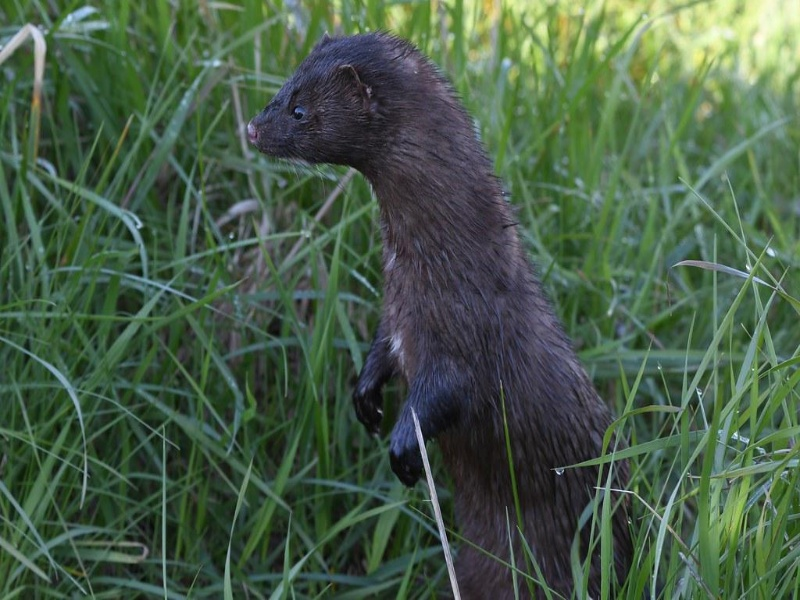minkish: (240, 28, 650, 600)
